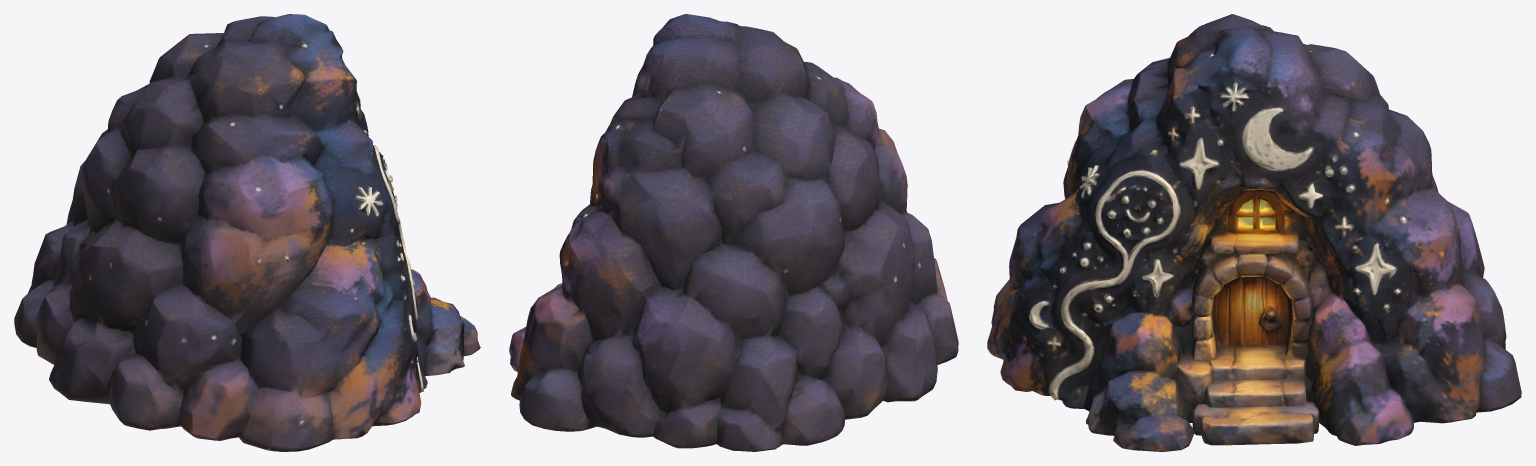
Rendered from 18848216-ink-grotto-web.glb.
3 renders of one model, left to right at view 1: azimuth 30°, elevation 25°; view 2: azimuth 150°, elevation 25°; view 3: azimuth 270°, elevation 25°, orthographic. The views are drawn at different scales.
Parts seen in each view (by area): view 1: ink-grotto-part-0; view 2: ink-grotto-part-0; view 3: ink-grotto-part-0.
Part boxes in pixels (x1,y1,x2,y2): ink-grotto-part-0: (14,14,480,451); ink-grotto-part-0: (509,14,958,451); ink-grotto-part-0: (987,14,1521,451).
Size of the model in its own units: 1.21 by 0.9992 by 1.41.
1 material, 1 textured.
